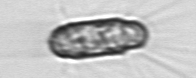plankton: (44, 13, 155, 63)
